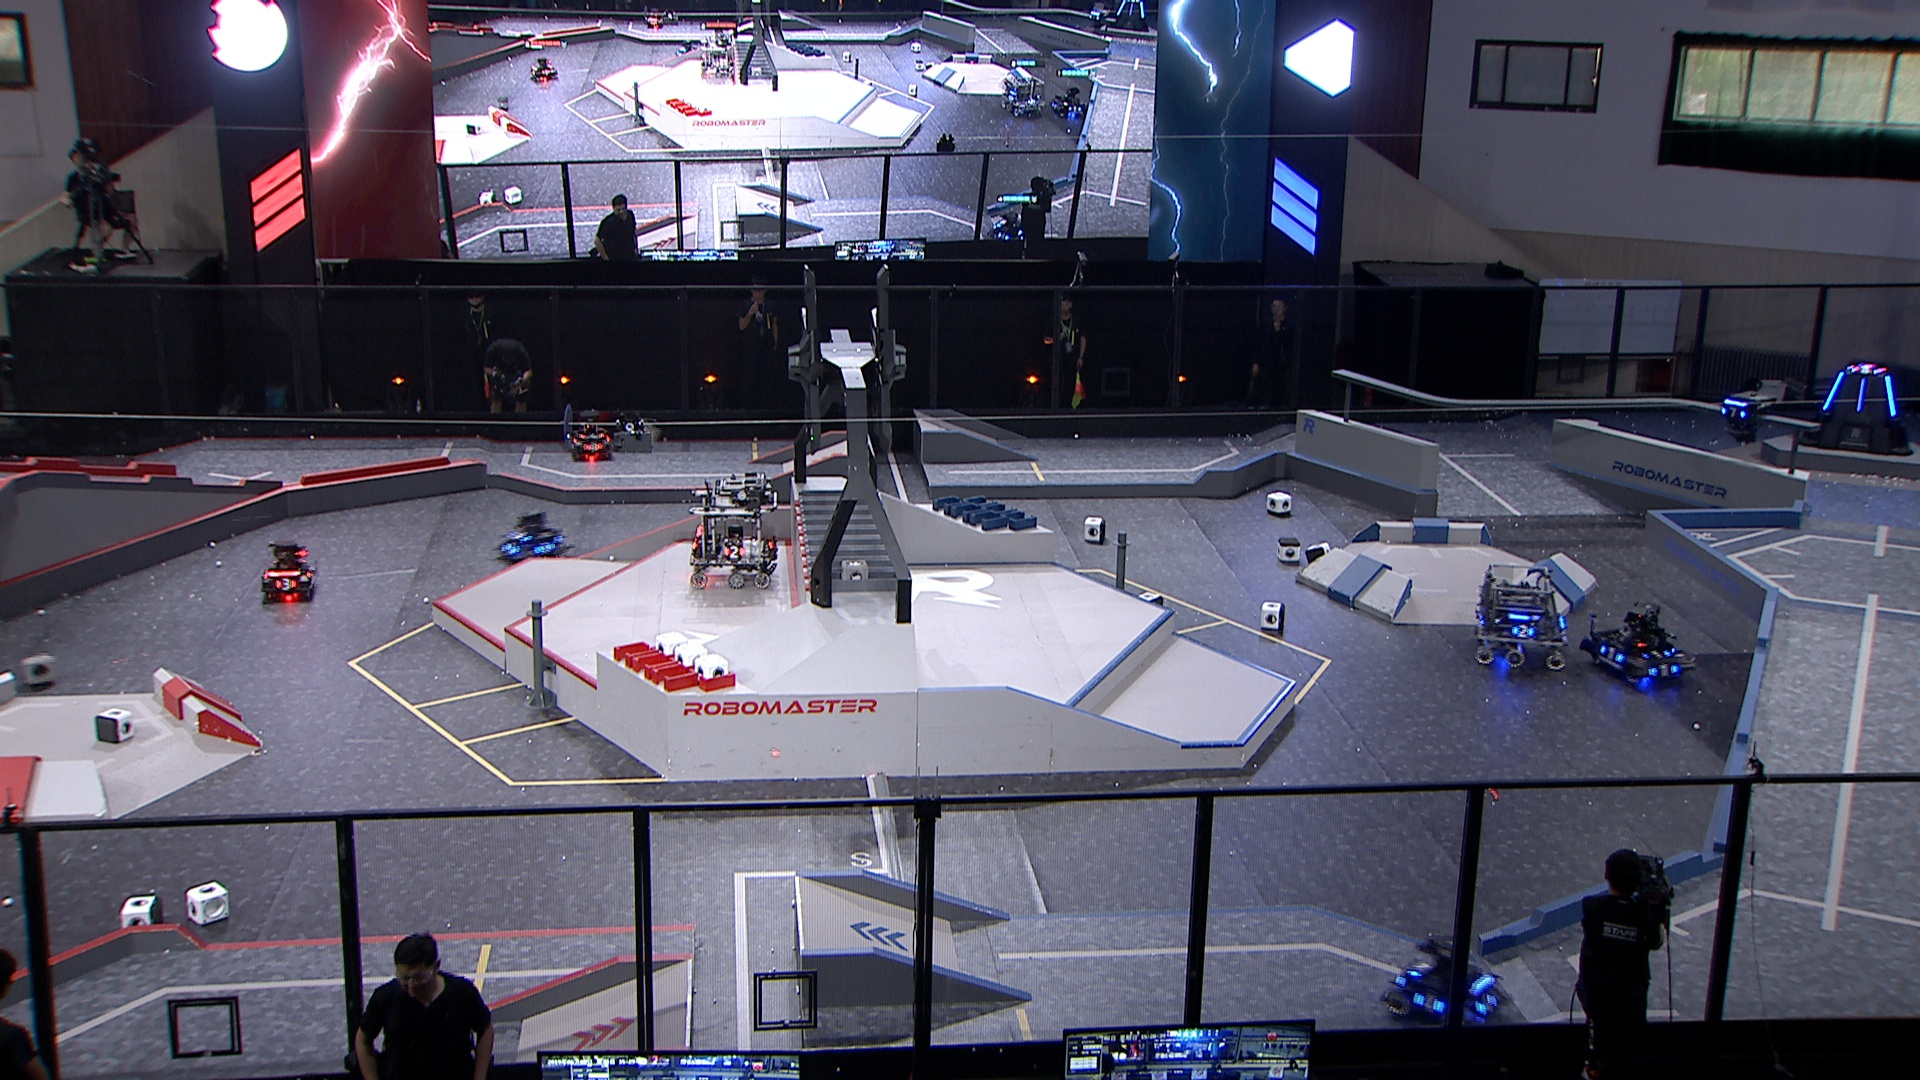armor: (1820, 368, 1847, 413), (1408, 992, 1448, 1015), (1884, 375, 1902, 417), (1647, 665, 1680, 680), (1476, 994, 1498, 1017), (1598, 646, 1625, 665), (1510, 622, 1536, 640), (500, 541, 524, 559), (1717, 406, 1749, 419), (1640, 647, 1675, 659), (723, 546, 749, 560), (273, 576, 299, 591), (1855, 377, 1866, 411), (1406, 960, 1429, 975), (506, 529, 534, 541), (580, 440, 604, 454), (535, 541, 558, 553), (580, 431, 605, 439)
base: (1797, 360, 1913, 458)
car: (1378, 934, 1510, 1033), (1468, 560, 1575, 673), (683, 472, 785, 589), (1580, 603, 1700, 692), (495, 508, 568, 567), (257, 538, 319, 603), (564, 406, 615, 463)
ignore: (698, 30, 740, 79), (1001, 74, 1046, 117), (982, 208, 1027, 243), (1048, 84, 1088, 120), (524, 55, 560, 82), (1087, 7, 1110, 34), (1847, 363, 1887, 376)
watcher: (1713, 389, 1778, 448)
